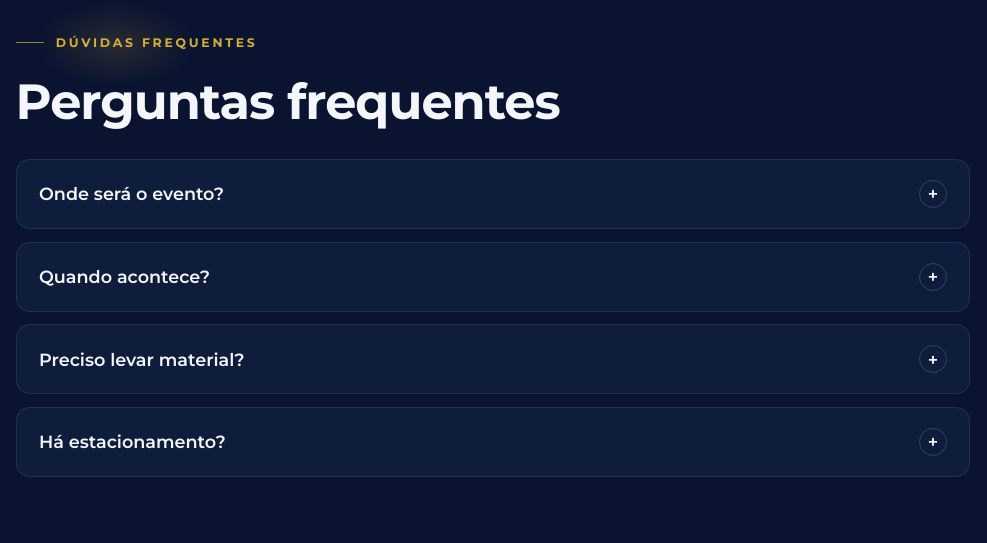
Test: FaqSection › single-open behavior (Req 12.2/12.3/12.5) › collapses the previously open item when another item is opened (at most one open)
The image size is (987, 543).
Click the button "Onde será o evento? +".
click(132, 194)  # box [16,160,969,228]
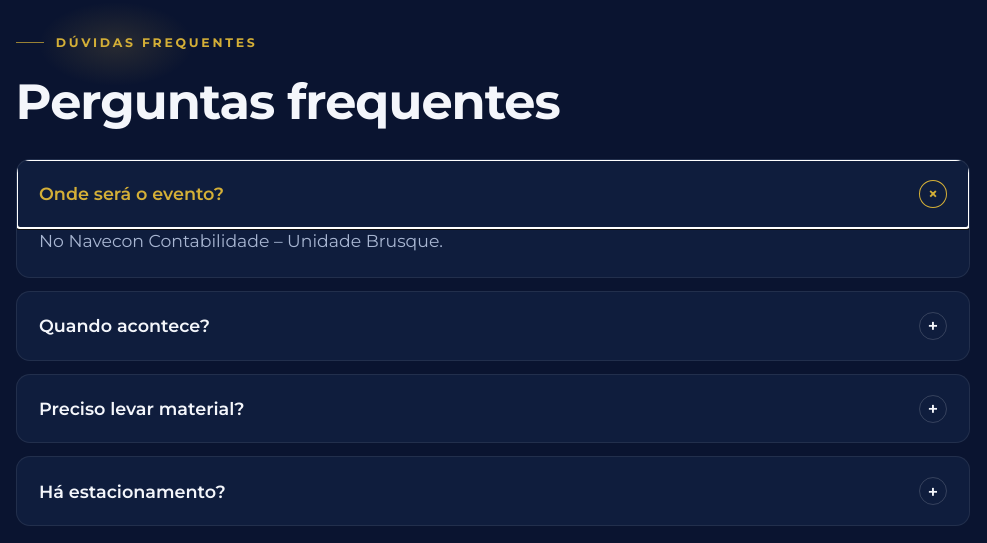
Result: the button "Onde será o evento? +" is expanded at [16,160,969,228]
Click the button "Quando acontece? +".
click(124, 326)  # box [16,292,969,360]
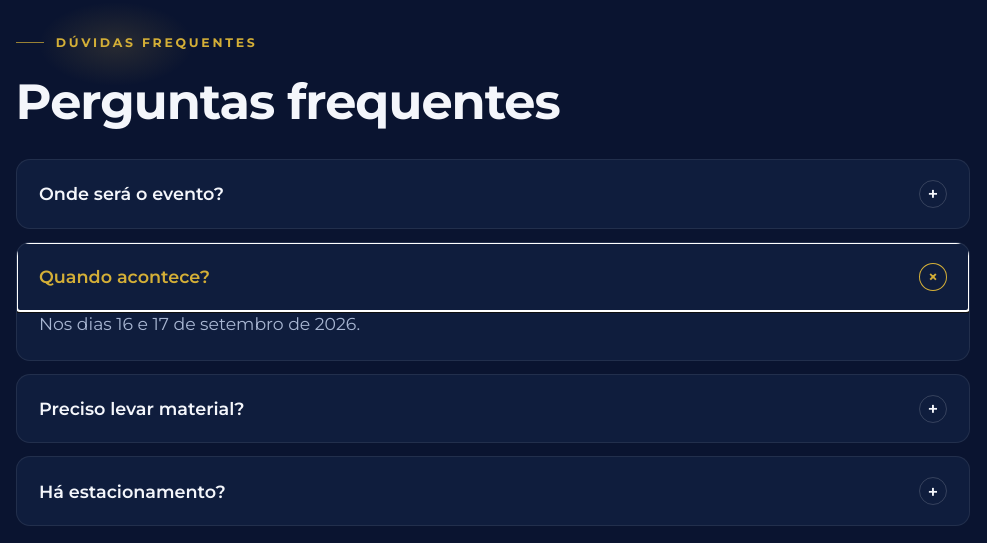
Result: the button "Quando acontece? +" is expanded at [16,243,969,310]
Result: the button "Onde será o evento? +" is collapsed at [16,160,969,228]
